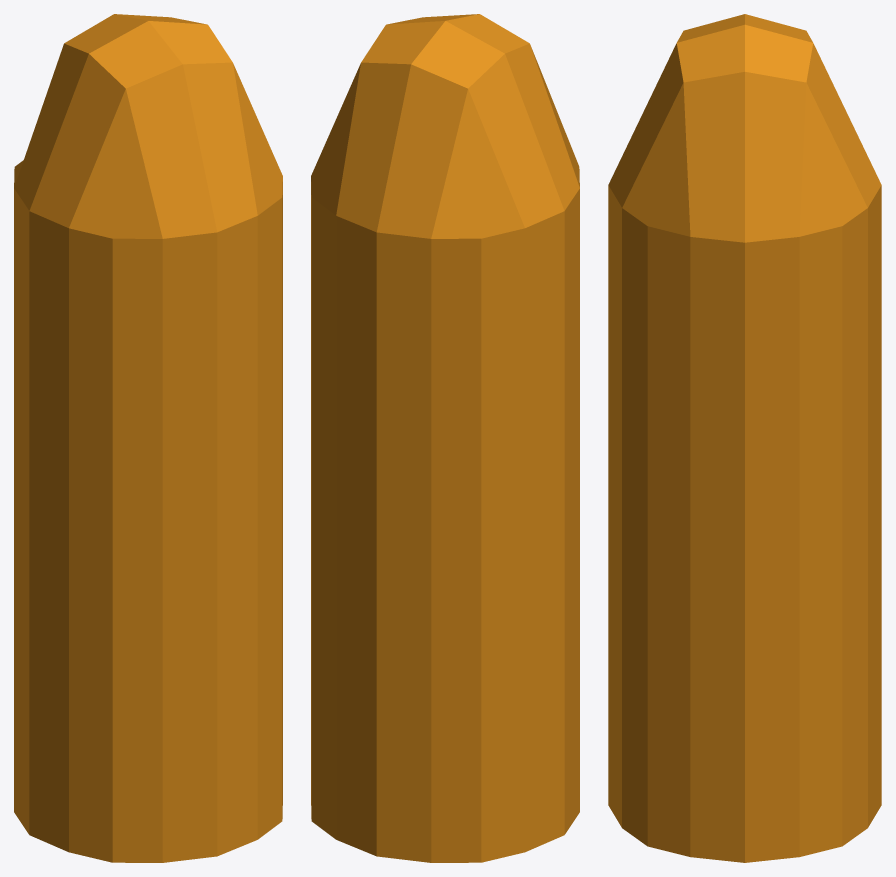
Rendered from bullet.glb.
3 renders of one model, left to right at view 1: azimuth 30°, elevation 25°; view 2: azimuth 150°, elevation 25°; view 3: azimuth 270°, elevation 25°, orthographic.
Visible parts, largest first — view 1: Cube; view 2: Cube; view 3: Cube.
Boxes of the visible parts, <box> form: Cube: <box>14,14,282,862</box>; Cube: <box>311,14,579,862</box>; Cube: <box>608,14,881,862</box>.
Size of the model in its own units: 2 by 6.3 by 2.
